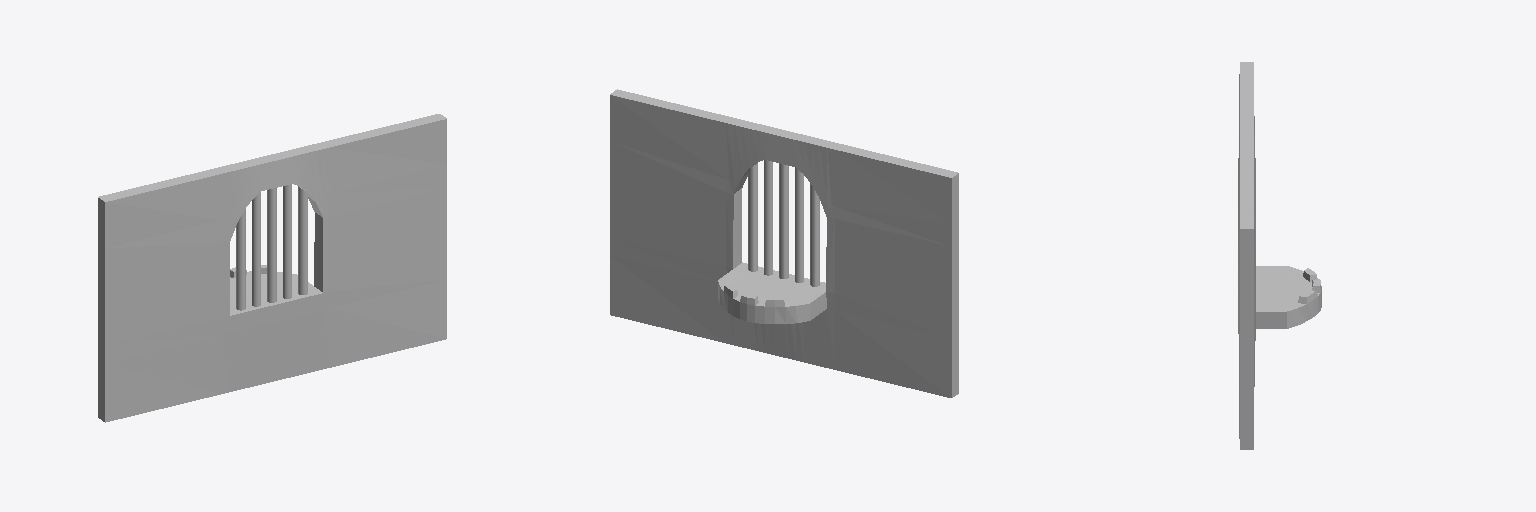
Rendered from wall.obj.
3 views of the same model, side by side, from view 1: azimuth 30°, elevation 25°; view 2: azimuth 150°, elevation 25°; view 3: azimuth 270°, elevation 25° (orthographic).
Parts seen in each view (by area): view 1: Cube; view 2: Cube; view 3: Cube.
Boxes of the visible parts, box(x1,y1,x2,y2) form: Cube: box(98, 114, 446, 422); Cube: box(610, 89, 958, 397); Cube: box(1238, 62, 1321, 449).
Bounding box in the file's own units: 26 × 16 × 5.5.